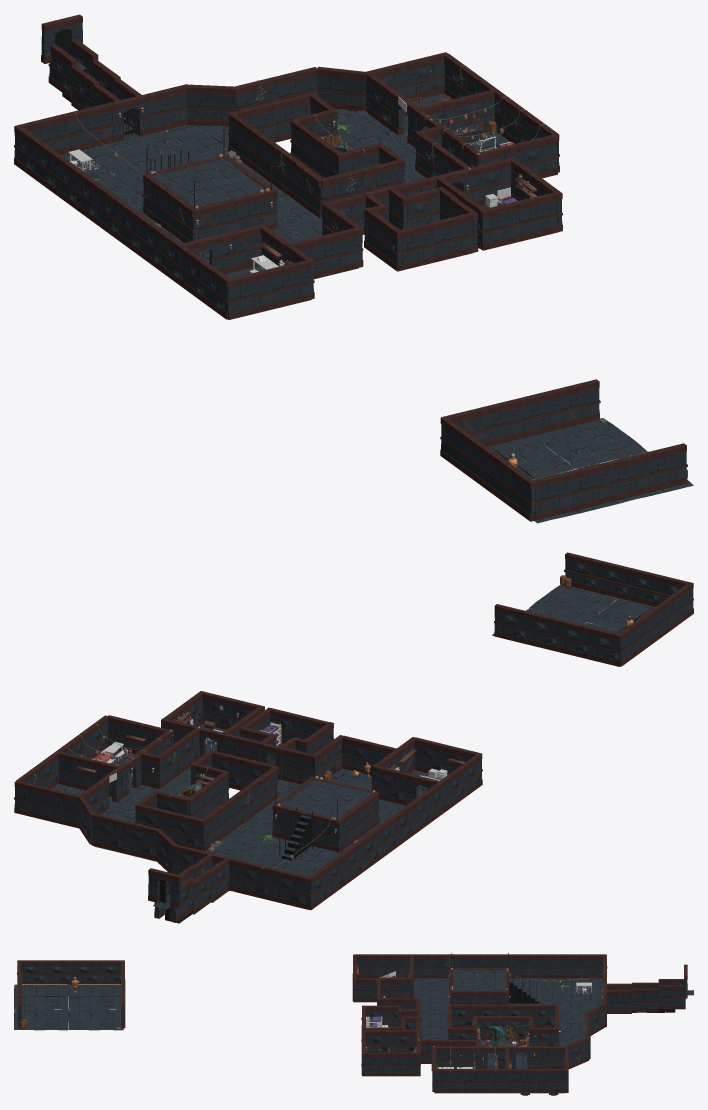
Rendered from Blocagem_Cavera.fbx.
3 renders of one model, top to bottom at view 1: azimuth 30°, elevation 25°; view 2: azimuth 150°, elevation 25°; view 3: azimuth 270°, elevation 25°, orthographic. The views are drawn at different scales.
Parts seen in each view (by area): view 1: Cube.046, Plane.121, Cube.177, Cube.176, Cube.175, Cube.174, Cube.172, Cube.173; view 2: Cube.046, Plane.121, Cube.174, Cube.176, Cube.177, Cube.175, Cube.173, Cube.172, Plane.027; view 3: Cube.046, Plane.121, Cube.172, Cube.173, Plane.027, Caroça.001.
Boxes of the visible parts, <box> form: Cube.046: <box>14,14,562,319</box>; Plane.121: <box>488,418,693,523</box>; Cube.177: <box>607,443,687,502</box>; Cube.176: <box>520,379,600,438</box>; Cube.175: <box>532,462,610,521</box>; Cube.174: <box>441,398,523,446</box>; Cube.172: <box>485,449,536,521</box>; Cube.173: <box>440,416,490,488</box>; Cube.046: <box>14,691,482,922</box>; Plane.121: <box>492,585,654,635</box>; Cube.174: <box>556,619,622,666</box>; Cube.176: <box>494,604,558,651</box>; Cube.177: <box>564,552,629,599</box>; Cube.175: <box>626,567,688,606</box>; Cube.173: <box>616,608,657,666</box>; Cube.172: <box>653,582,693,639</box>; Plane.027: <box>281,815,311,860</box>; Cube.046: <box>352,954,687,1093</box>; Plane.121: <box>14,984,123,1030</box>; Cube.172: <box>17,960,70,984</box>; Cube.173: <box>70,960,124,984</box>; Plane.027: <box>509,979,539,1003</box>; Caroça.001: <box>488,1026,505,1046</box>.
Size of the model in its own units: 16298 by 2943 by 40222.
